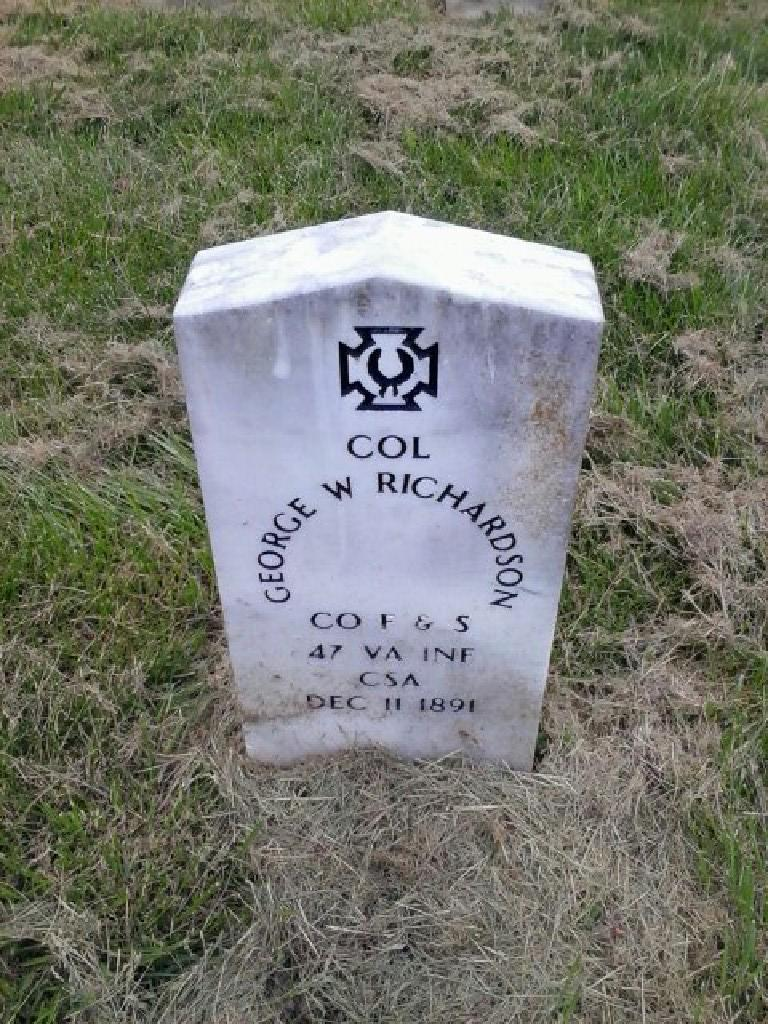military: (176, 210, 604, 769)
